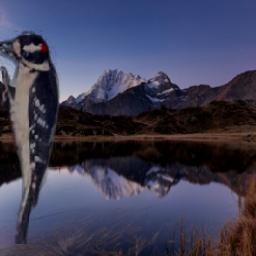Woodpecker: (0, 29, 61, 245)
